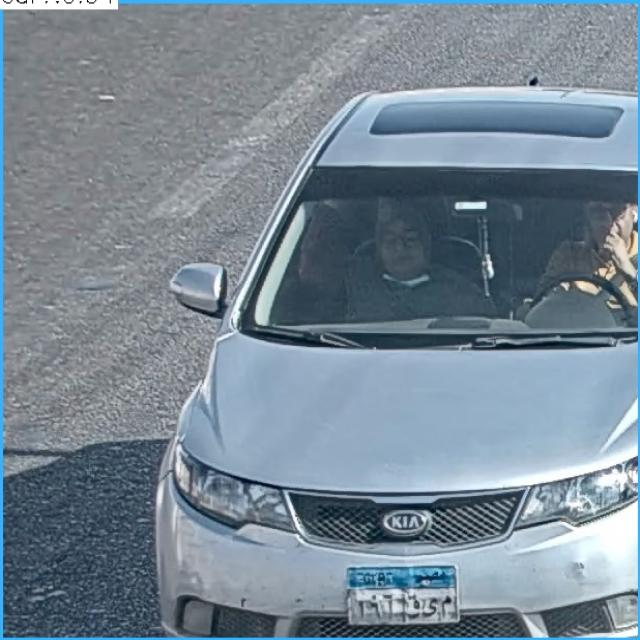windshield: (244, 169, 640, 343)
